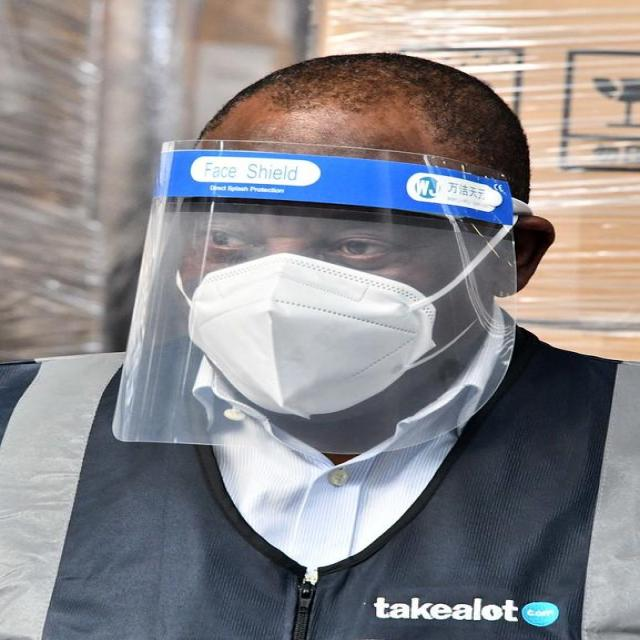Mask: (190, 252, 444, 419)
